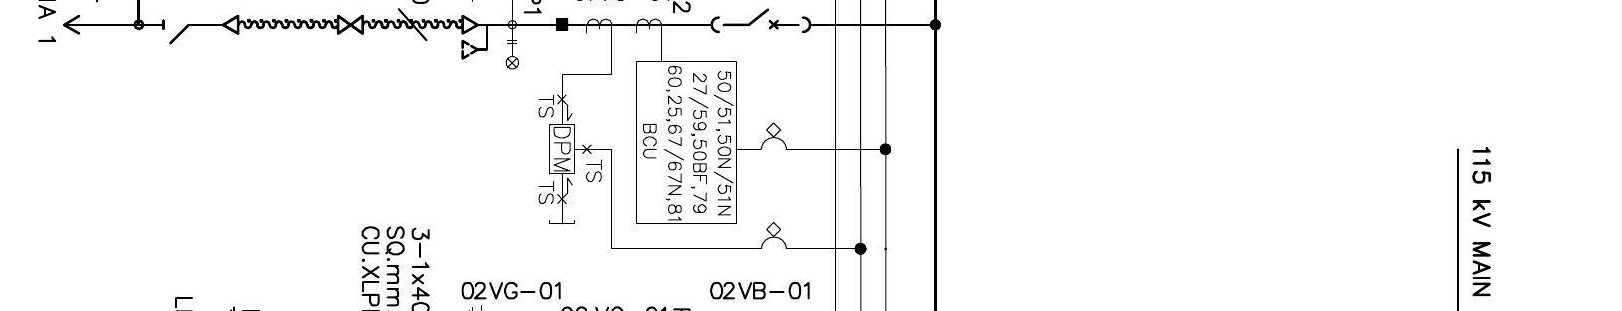22_breaker: (710, 7, 812, 34)
22_ll: (505, 39, 520, 70)
DPM: (547, 123, 576, 176)
terminator_single: (222, 13, 241, 36)
terminator_splicing_kits: (336, 14, 364, 35)
terminator_w_future: (460, 13, 489, 61)
